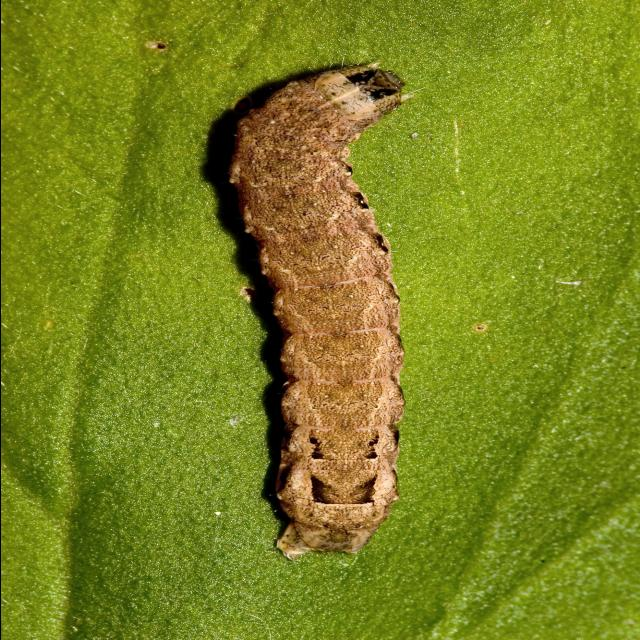cutworm: (206, 50, 423, 568)
